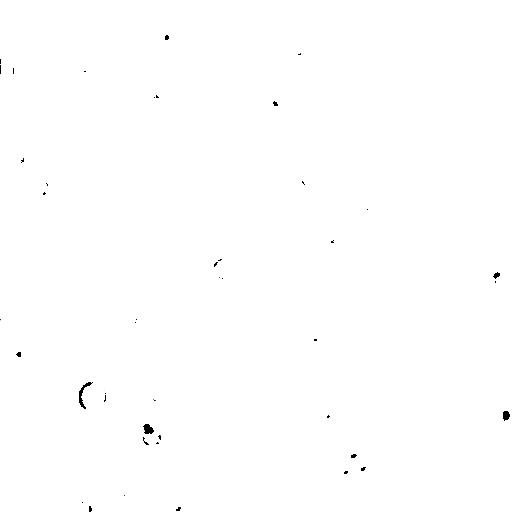micro-algae: (28, 0, 137, 89), (221, 437, 297, 509), (87, 268, 147, 328), (300, 457, 356, 512), (26, 221, 77, 273), (49, 483, 115, 509), (451, 313, 488, 347), (320, 142, 353, 180), (259, 85, 293, 121), (487, 392, 511, 437), (12, 264, 46, 295), (55, 224, 90, 254), (319, 226, 349, 260), (207, 2, 237, 34), (130, 409, 160, 441), (430, 188, 458, 221), (78, 380, 107, 411), (281, 33, 311, 62), (336, 383, 365, 412), (347, 454, 376, 483), (405, 220, 428, 254), (263, 238, 289, 268), (319, 417, 345, 447), (414, 0, 446, 24), (303, 320, 330, 347), (229, 207, 257, 233), (397, 81, 425, 106), (183, 0, 207, 25), (4, 340, 29, 364), (131, 324, 155, 349), (207, 305, 227, 335), (153, 23, 177, 47), (211, 255, 235, 279), (338, 452, 364, 474), (147, 379, 170, 403), (363, 195, 387, 217), (433, 326, 454, 351), (12, 56, 31, 83), (163, 497, 197, 512), (121, 483, 138, 511), (73, 67, 94, 89), (299, 163, 319, 185), (141, 428, 163, 448), (442, 298, 461, 321), (10, 143, 27, 165), (430, 357, 446, 377), (125, 306, 138, 327), (293, 502, 321, 511), (74, 500, 92, 511), (37, 178, 48, 195), (0, 53, 7, 77)
